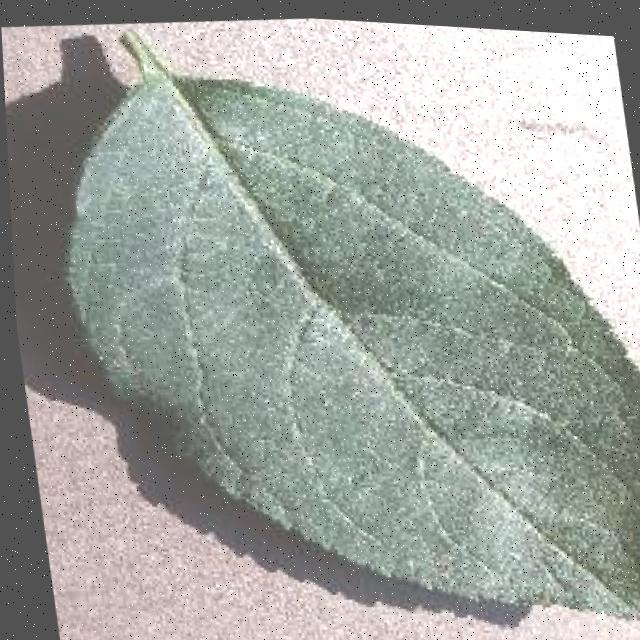healthy: (23, 1, 640, 640)
